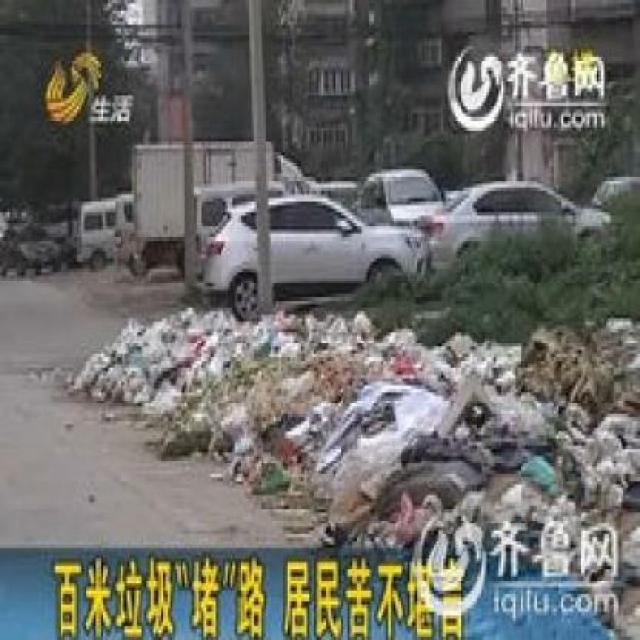garbage: (96, 315, 635, 457), (269, 463, 420, 538)
